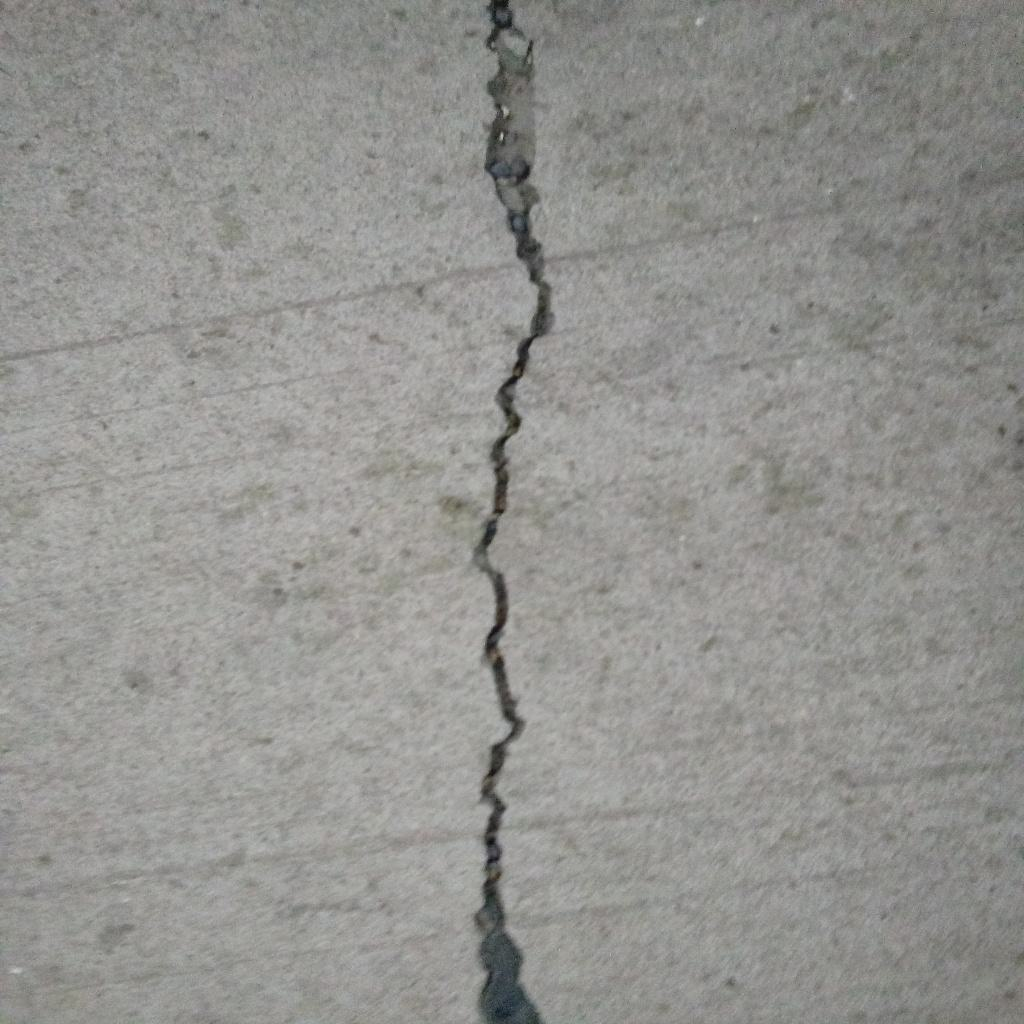Crack: (473, 1, 555, 1024)
